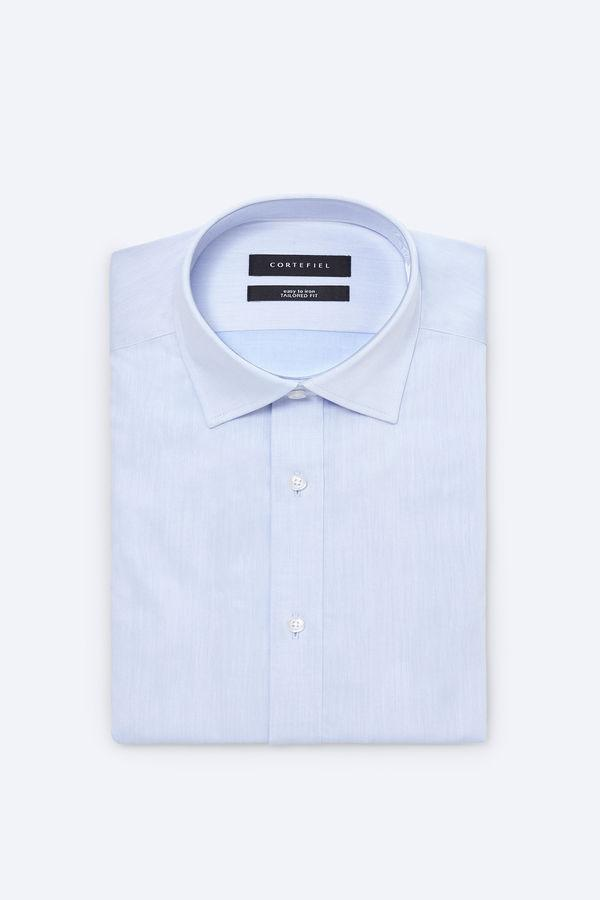teeshirt: (108, 193, 493, 749)
